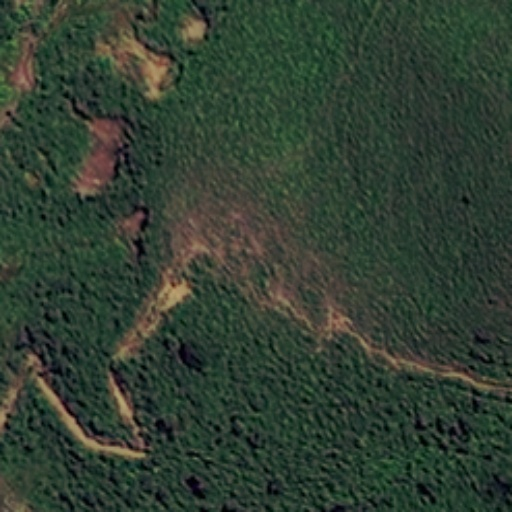landslide: (123, 209, 353, 338), (60, 16, 210, 194)
